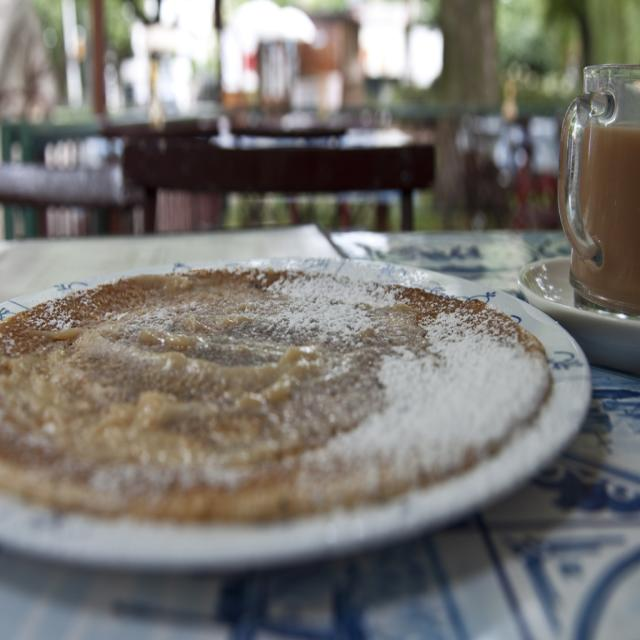Coffee: (571, 121, 640, 309)
